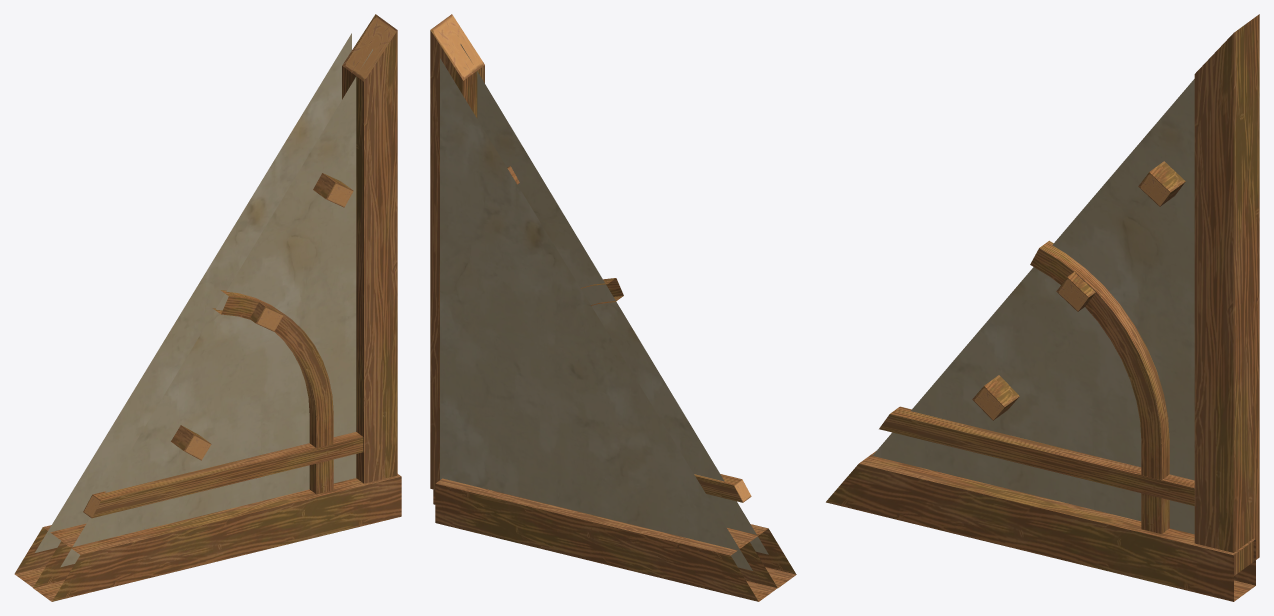
The model's file is Roof_Front_Brick4_Half_L.gltf.
3 renders of one model, left to right at view 1: azimuth 30°, elevation 25°; view 2: azimuth 150°, elevation 25°; view 3: azimuth 330°, elevation 25°, orthographic. The views are drawn at different scales.
Parts seen in each view (by area): view 1: Roof_Front_Brick4_Half_L; view 2: Roof_Front_Brick4_Half_L; view 3: Roof_Front_Brick4_Half_L.
Boxes of the visible parts, x1,y1,x2,y2 form: Roof_Front_Brick4_Half_L: [14, 14, 401, 601]; Roof_Front_Brick4_Half_L: [430, 14, 796, 601]; Roof_Front_Brick4_Half_L: [826, 14, 1259, 601].
Size of the model in its own units: 2.41 by 3.2 by 0.4896.
Materials: 2 (2 with a texture image).
